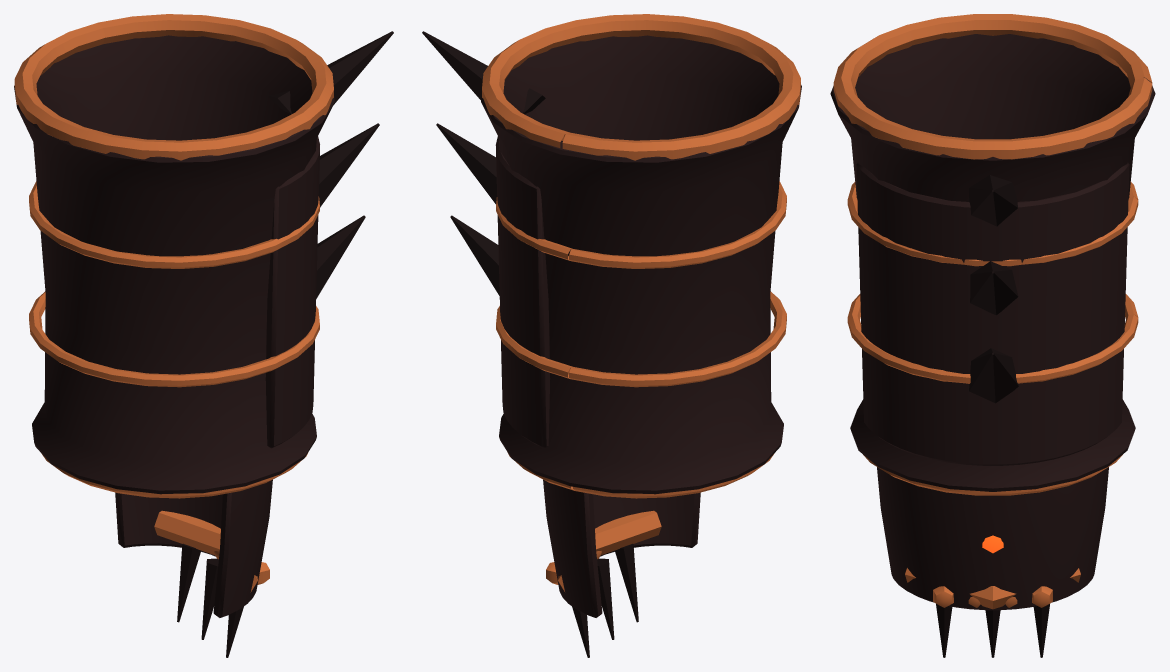
The model's file is asc_worldforger_gloves.glb.
The picture shows the model from 3 angles, left to right: view 1: azimuth 30°, elevation 25°; view 2: azimuth 150°, elevation 25°; view 3: azimuth 270°, elevation 25°; orthographic projection.
Visible parts, largest first — view 1: asc_worldforger_gloves, AT_hand_L; view 2: asc_worldforger_gloves, AT_hand_L; view 3: asc_worldforger_gloves, AT_hand_L.
Part boxes in pixels (bbox=[...]): asc_worldforger_gloves: bbox=[14, 14, 393, 498]; AT_hand_L: bbox=[115, 479, 272, 657]; asc_worldforger_gloves: bbox=[422, 14, 801, 498]; AT_hand_L: bbox=[543, 479, 700, 657]; asc_worldforger_gloves: bbox=[830, 14, 1155, 495]; AT_hand_L: bbox=[877, 467, 1108, 657].
Bounding box in the file's own units: 0.2539 × 0.385 × 0.2004.
